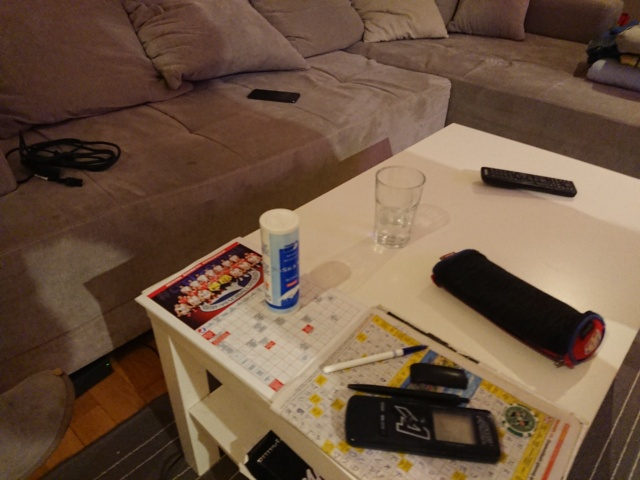Solana Pag Fine Sea Salt 250g: (256, 205, 304, 317)
